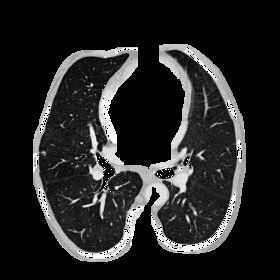PN: (41, 151, 45, 155)
